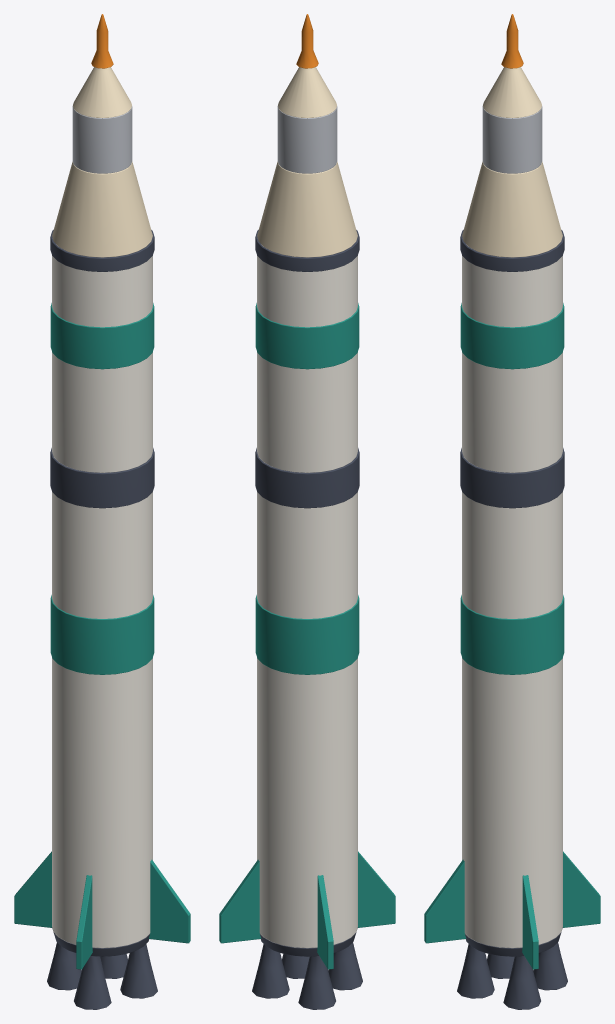
The model's file is Ship_RocketSmall.fbx.
3 renders of one model, left to right at view 1: azimuth 30°, elevation 25°; view 2: azimuth 150°, elevation 25°; view 3: azimuth 330°, elevation 25°, orthographic.
Visible parts, largest first — view 1: Ship_RocketSmall.Stage1, Ship_RocketSmall.Stage2, Ship_RocketSmall.Adapter, Ship_RocketSmall.Band1, Ship_RocketSmall.Fins, Ship_RocketSmall.Engines, Ship_RocketSmall.Band2, Ship_RocketSmall.Ring1, Ship_RocketSmall.Payload_SM, Ship_RocketSmall.Payload_CM, Ship_RocketSmall.Ring2, Ship_RocketSmall.Payload_Tower (+1 smaller); view 2: Ship_RocketSmall.Stage1, Ship_RocketSmall.Stage2, Ship_RocketSmall.Adapter, Ship_RocketSmall.Band1, Ship_RocketSmall.Fins, Ship_RocketSmall.Engines, Ship_RocketSmall.Band2, Ship_RocketSmall.Ring1, Ship_RocketSmall.Payload_SM, Ship_RocketSmall.Payload_CM, Ship_RocketSmall.Ring2, Ship_RocketSmall.Payload_Tower (+1 smaller); view 3: Ship_RocketSmall.Stage1, Ship_RocketSmall.Stage2, Ship_RocketSmall.Adapter, Ship_RocketSmall.Band1, Ship_RocketSmall.Fins, Ship_RocketSmall.Engines, Ship_RocketSmall.Band2, Ship_RocketSmall.Ring1, Ship_RocketSmall.Payload_SM, Ship_RocketSmall.Payload_CM, Ship_RocketSmall.Ring2, Ship_RocketSmall.Payload_Tower (+1 smaller).
Part boxes in pixels (x1,y1,x2,y2): Ship_RocketSmall.Stage1: (52, 492, 152, 948); Ship_RocketSmall.Stage2: (52, 256, 152, 472); Ship_RocketSmall.Adapter: (52, 161, 152, 257); Ship_RocketSmall.Band1: (50, 595, 154, 674); Ship_RocketSmall.Fins: (14, 851, 190, 969); Ship_RocketSmall.Engines: (47, 942, 157, 1009); Ship_RocketSmall.Band2: (50, 303, 154, 369); Ship_RocketSmall.Ring1: (50, 448, 154, 508); Ship_RocketSmall.Payload_SM: (72, 106, 132, 173); Ship_RocketSmall.Payload_CM: (73, 67, 131, 118); Ship_RocketSmall.Ring2: (50, 230, 154, 271); Ship_RocketSmall.Payload_Tower: (91, 14, 113, 68); Ship_RocketSmall.Stage1: (257, 492, 357, 948); Ship_RocketSmall.Stage2: (257, 256, 357, 472); Ship_RocketSmall.Adapter: (257, 161, 357, 257); Ship_RocketSmall.Band1: (255, 595, 359, 674); Ship_RocketSmall.Fins: (219, 851, 395, 969); Ship_RocketSmall.Engines: (252, 942, 362, 1009); Ship_RocketSmall.Band2: (255, 303, 359, 369); Ship_RocketSmall.Ring1: (255, 448, 359, 508); Ship_RocketSmall.Payload_SM: (277, 106, 337, 173); Ship_RocketSmall.Payload_CM: (278, 67, 336, 118); Ship_RocketSmall.Ring2: (255, 230, 359, 271); Ship_RocketSmall.Payload_Tower: (296, 14, 318, 68); Ship_RocketSmall.Stage1: (462, 492, 562, 948); Ship_RocketSmall.Stage2: (462, 256, 562, 472); Ship_RocketSmall.Adapter: (462, 161, 562, 257); Ship_RocketSmall.Band1: (460, 595, 564, 674); Ship_RocketSmall.Fins: (424, 851, 600, 969); Ship_RocketSmall.Engines: (457, 942, 567, 1009); Ship_RocketSmall.Band2: (460, 303, 564, 369); Ship_RocketSmall.Ring1: (460, 448, 564, 508); Ship_RocketSmall.Payload_SM: (482, 106, 542, 173); Ship_RocketSmall.Payload_CM: (483, 67, 541, 118); Ship_RocketSmall.Ring2: (460, 230, 564, 271); Ship_RocketSmall.Payload_Tower: (501, 14, 523, 68).
Size of the model in its own units: 8.59 by 70 by 8.59.
Materials: 1 (1 with a texture image).
